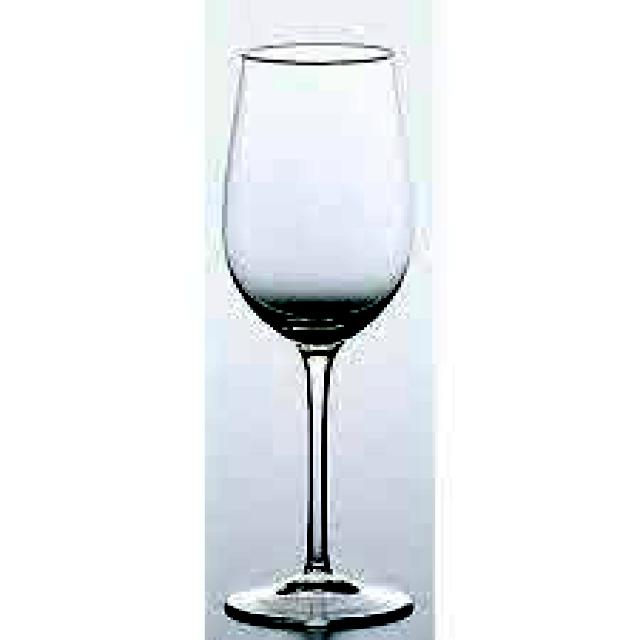Glass: (212, 36, 420, 635)
